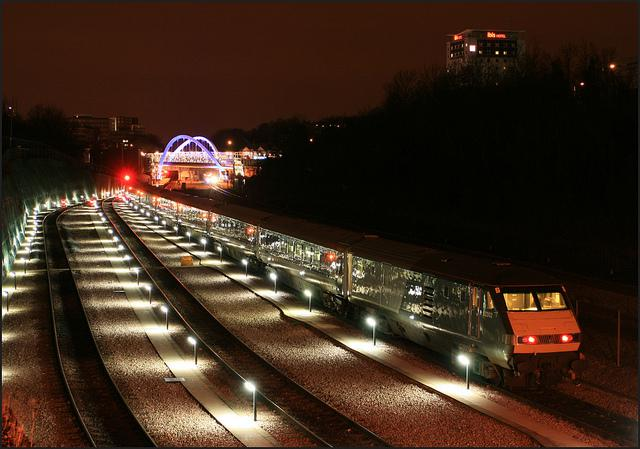Train: (116, 180, 586, 395)
